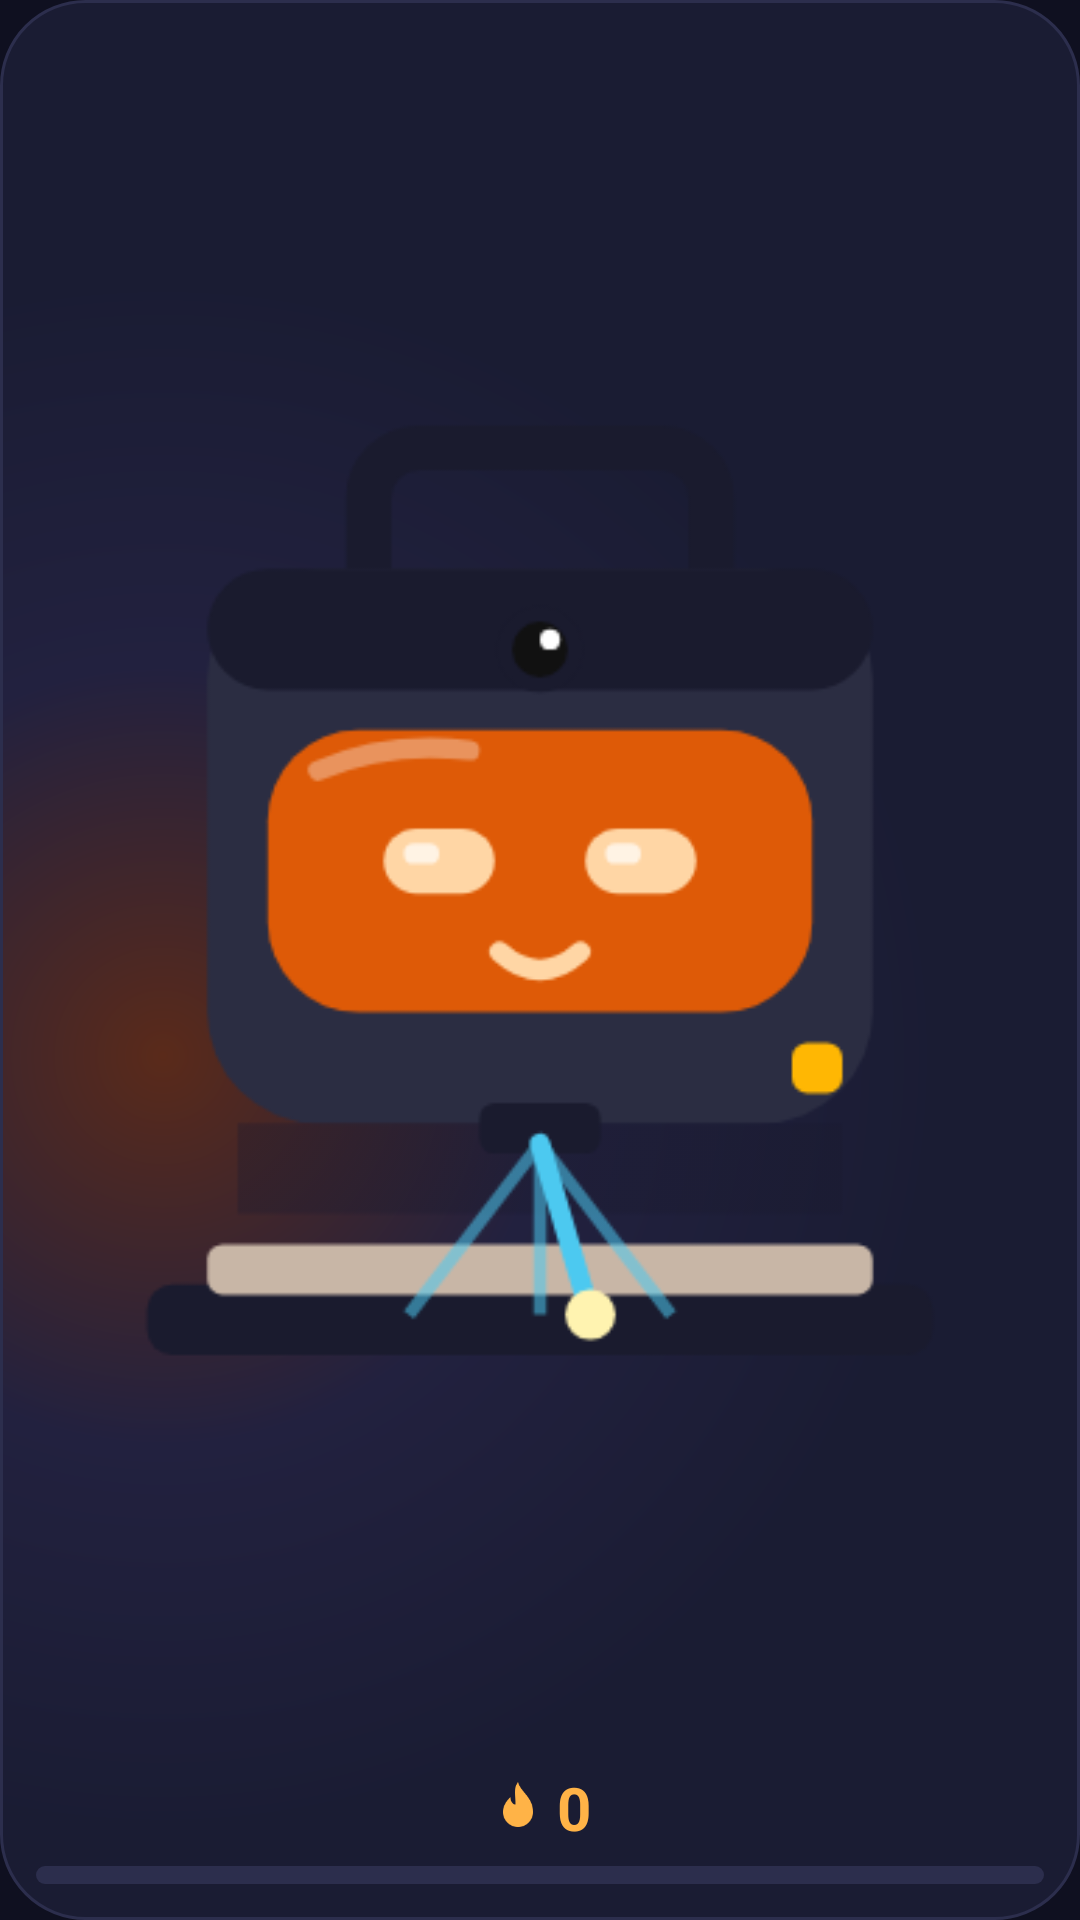

Screen size 1080w x 1920h. Icon name, then its center in pixels as (x=x, y=y):
Streak: (x=518, y=1804)
